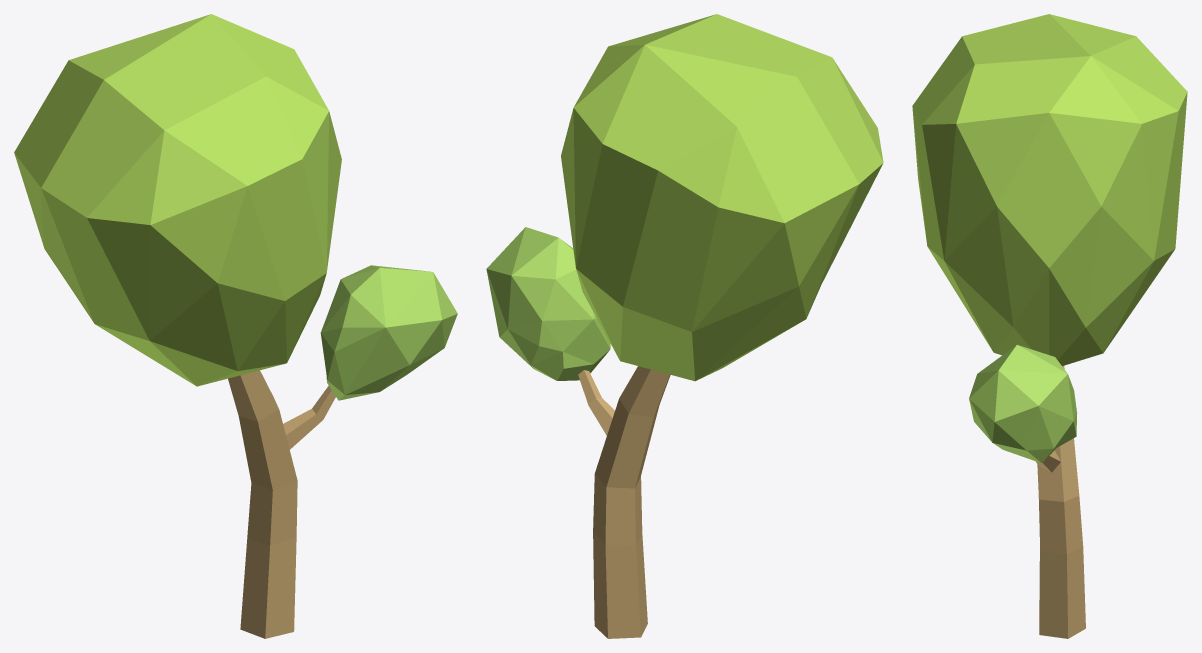
File: Simple_Tree_m_06.fbx
3 views of the same model, side by side, from view 1: azimuth 30°, elevation 25°; view 2: azimuth 150°, elevation 25°; view 3: azimuth 270°, elevation 25° (orthographic). The views are drawn at different scales.
Parts seen in each view (by area): view 1: Simple_Tree_m_06; view 2: Simple_Tree_m_06; view 3: Simple_Tree_m_06.
Part boxes in pixels (bbox=[...]): Simple_Tree_m_06: bbox=[14, 14, 457, 638]; Simple_Tree_m_06: bbox=[486, 14, 883, 638]; Simple_Tree_m_06: bbox=[912, 14, 1187, 638].
Size of the model in its own units: 472 by 711 by 320.
